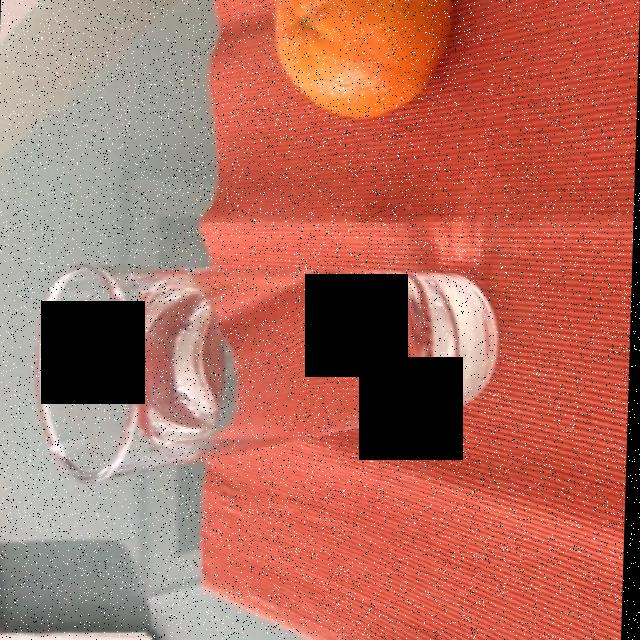water: (136, 270, 463, 468)
